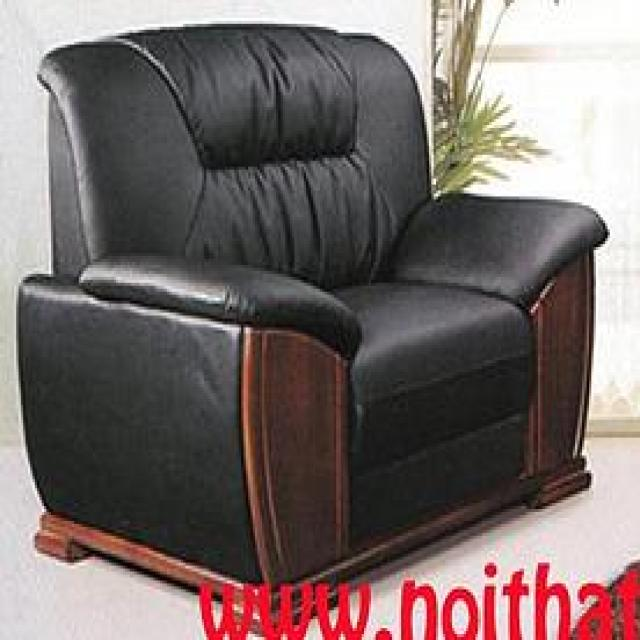sofa: (13, 19, 612, 640)
